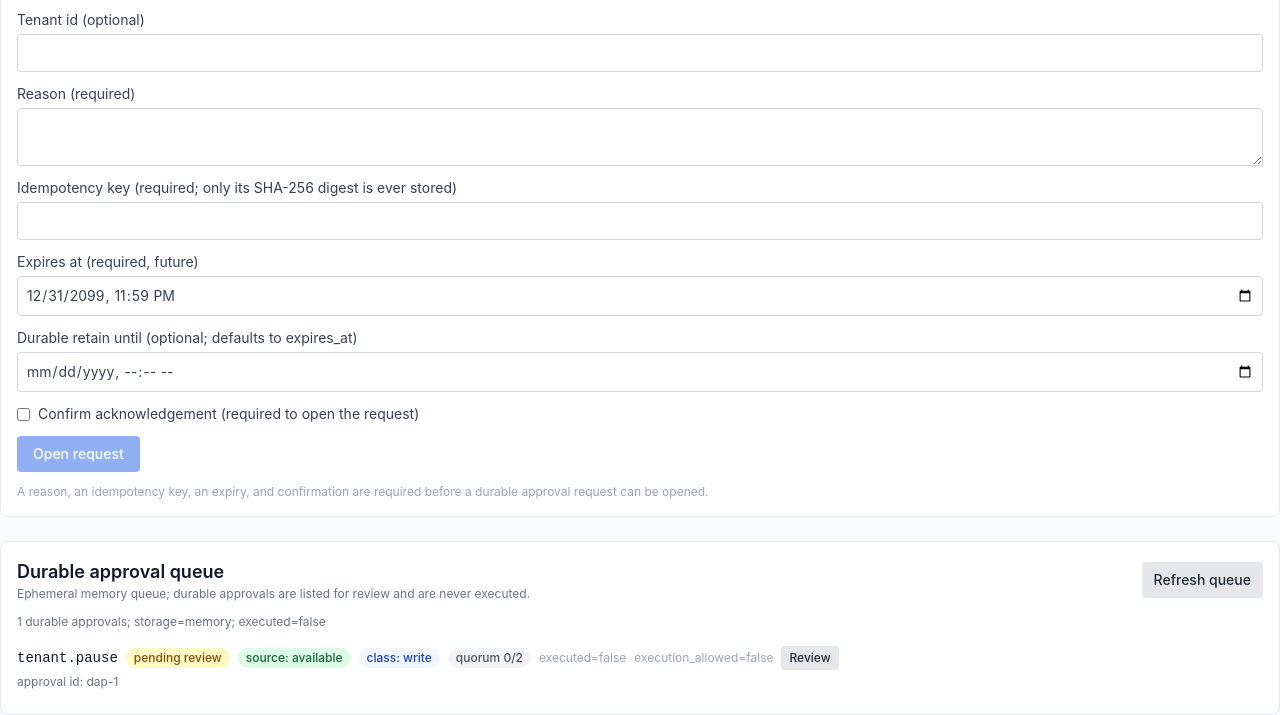
Test: PlatformDurableApprovalsPage › a non-maker checker approves only after confirmation, to the decisions endpoint
(page scrolled)
expect the list item with test id "dap-queue-item" is shown: met, box [17,646,839,689]
Click the button with test id "dap-review-btn" at coordinates (810, 658), box [782,646,839,670]
(page scrolled)
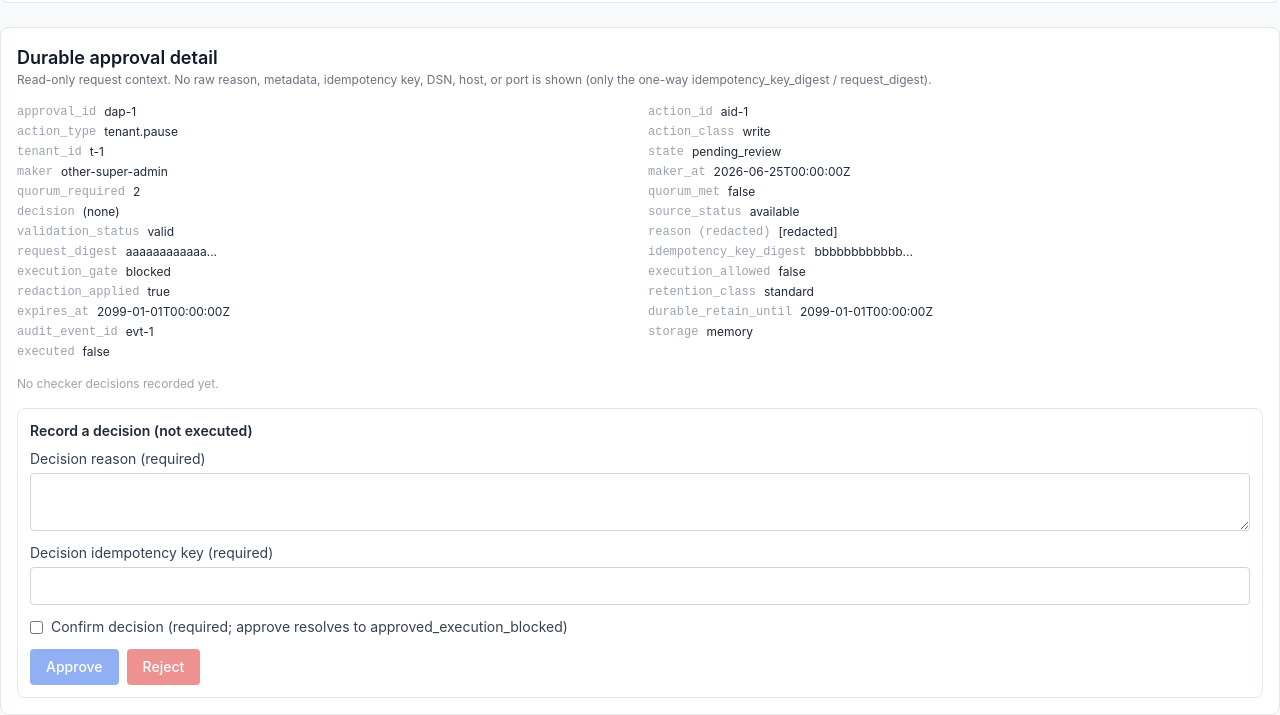
expect the element with test id "dap-decision" is shown: met, box [17,408,1263,698]
expect the button with test id "dap-approve-btn" is disabled: met, box [30,649,119,685]
Type "ok to approve" into the text box with test id "dap-decision-reason-input" at coordinates (640, 502), box [30,473,1250,531]
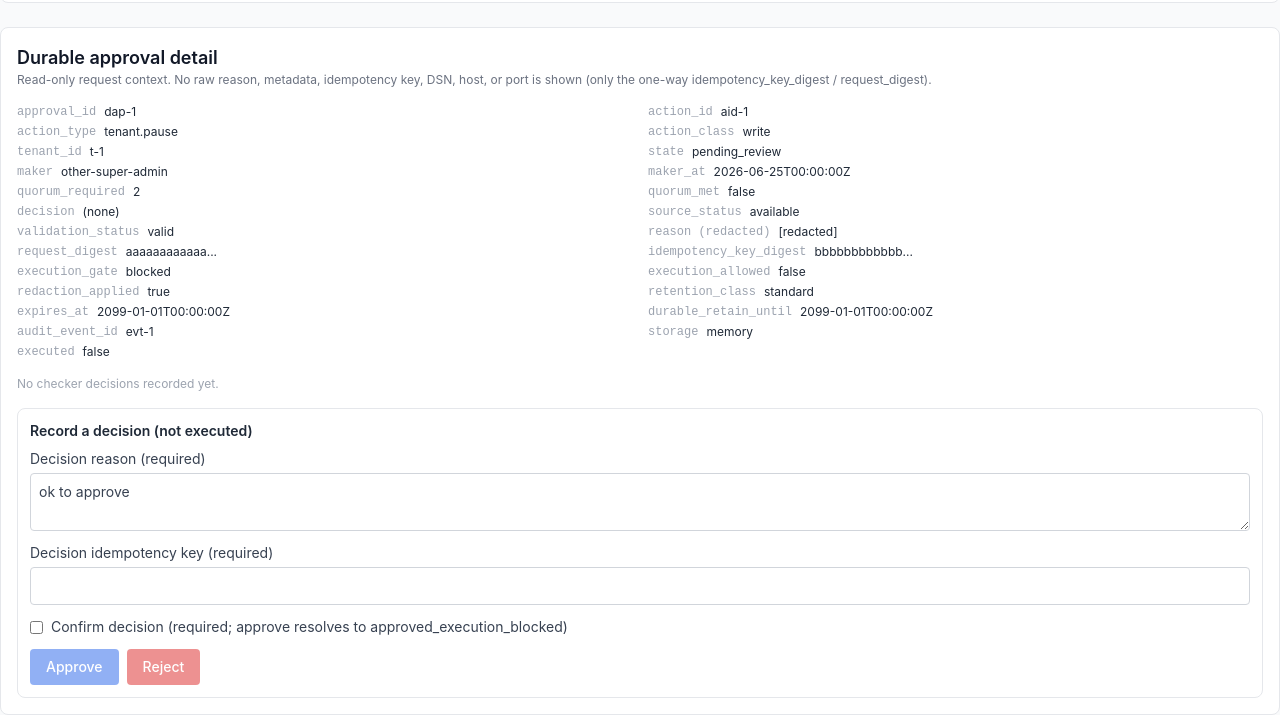
Type "dec-1" into the field with test id "dap-decision-idempotency-input" at coordinates (640, 586), box [30,567,1250,605]
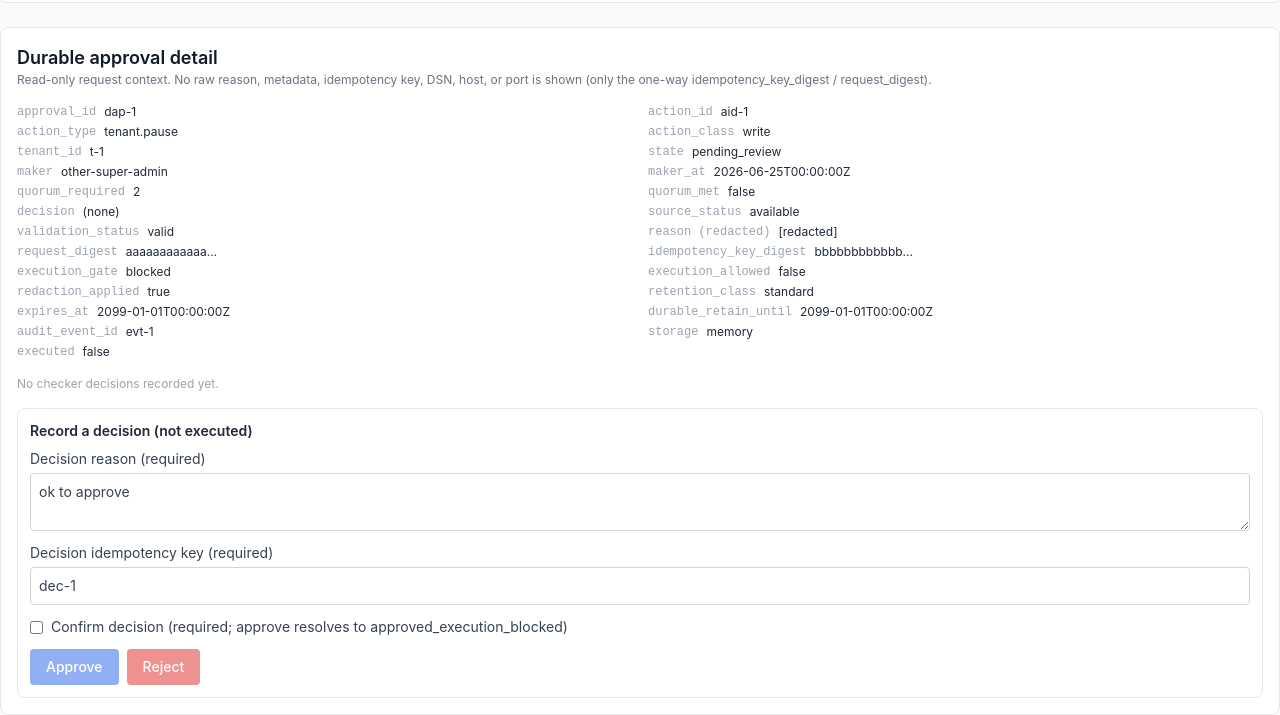
Click the checkbox with test id "dap-decision-confirm-input" at coordinates (36, 627), box [30,620,43,634]
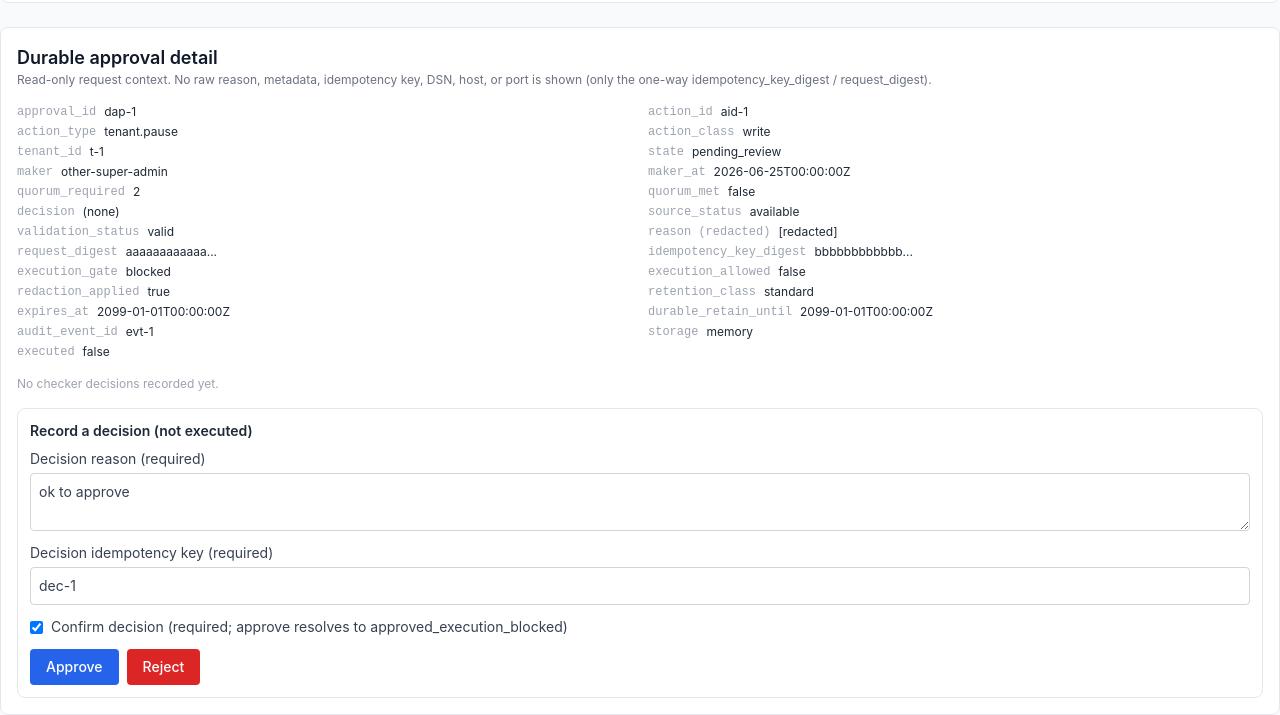
Click the button with test id "dap-approve-btn" at coordinates (74, 667), box [30,649,119,685]
(page scrolled)
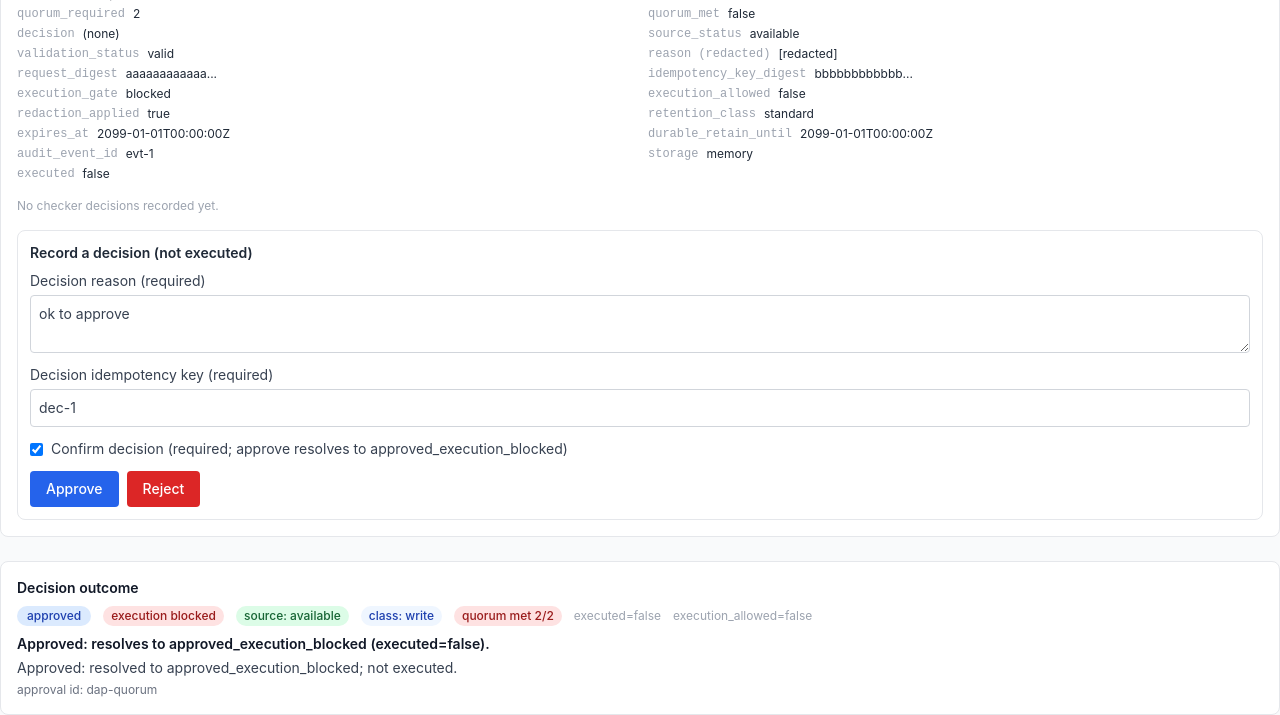
expect the element with test id "dap-decision-result" shows "execution blocked": met, box [111,608,216,623]
expect the text with test id "dap-not-executed" shows "executed=false": met, box [17,635,490,652]
